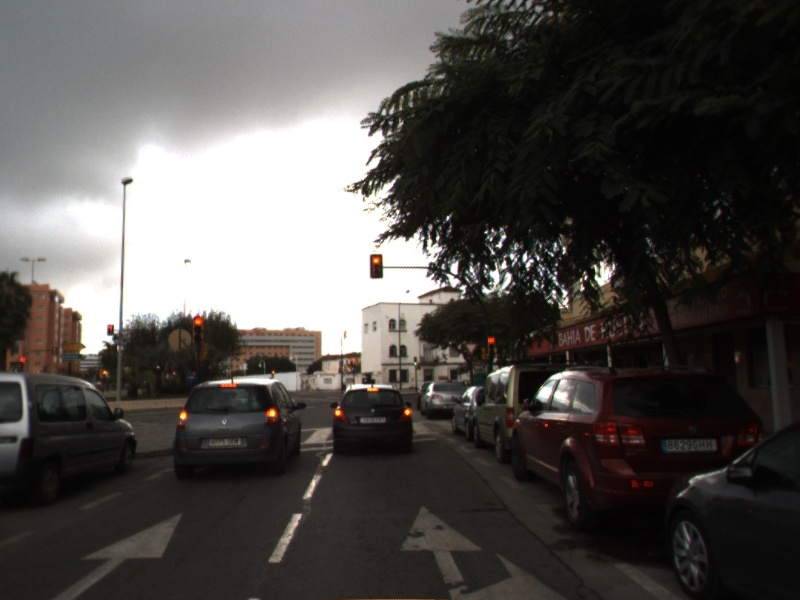STRAIGHT: (51, 511, 185, 600)
STRAIGHT_RIGHT: (398, 503, 571, 600)
